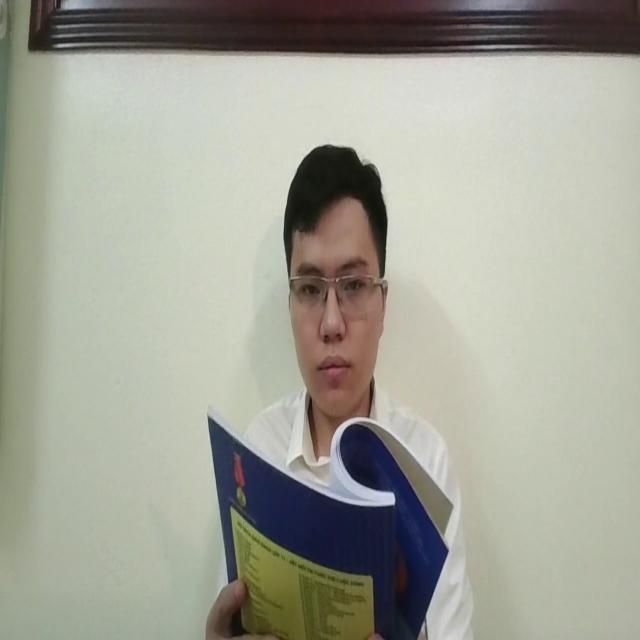book: (204, 394, 451, 640)
student: (233, 139, 475, 640)
